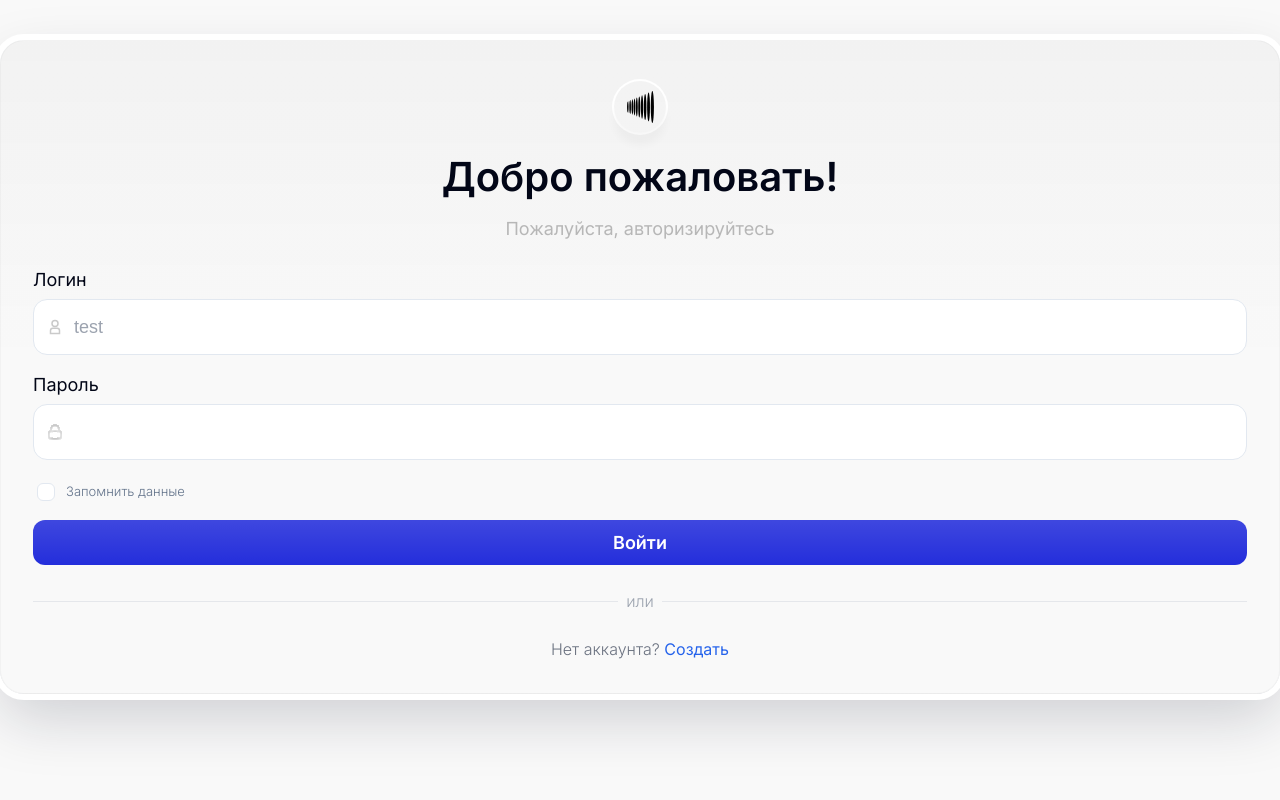
Scenario: LoginForm › should show validation errors on submitting empty form
This screenshot has width=1280, height=800.
What coordinates should you click on to do the following:
click the button "Войти"
I would click on:
 (640, 542)
Its box is [33,520,1247,565].
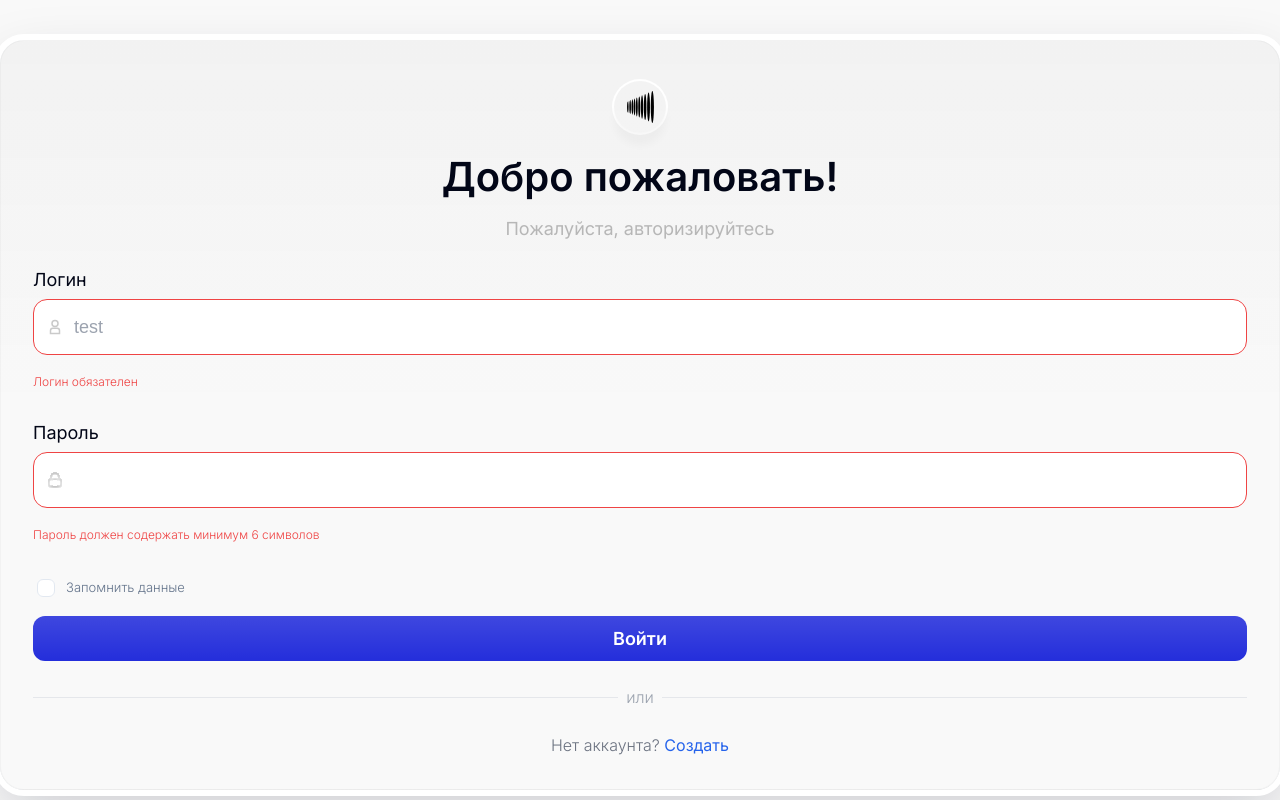
expect the text "Логин обязателен" is shown: met, box [33,374,138,389]
expect the text "Пароль должен содержать минимум 6 символов" is shown: met, box [33,527,320,542]
